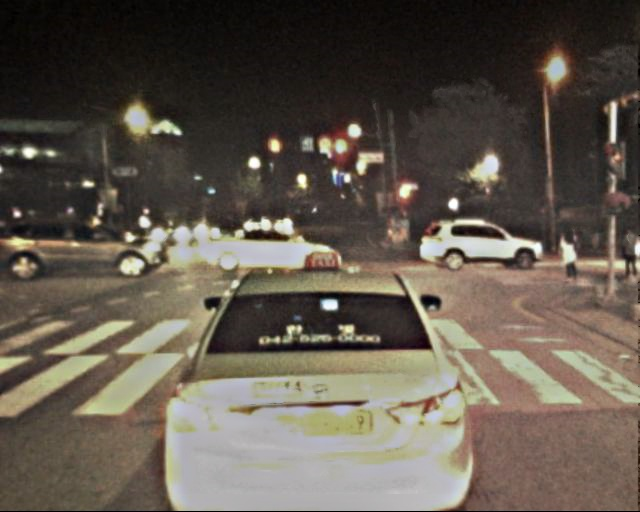person: (561, 228, 585, 284), (617, 228, 639, 286)
